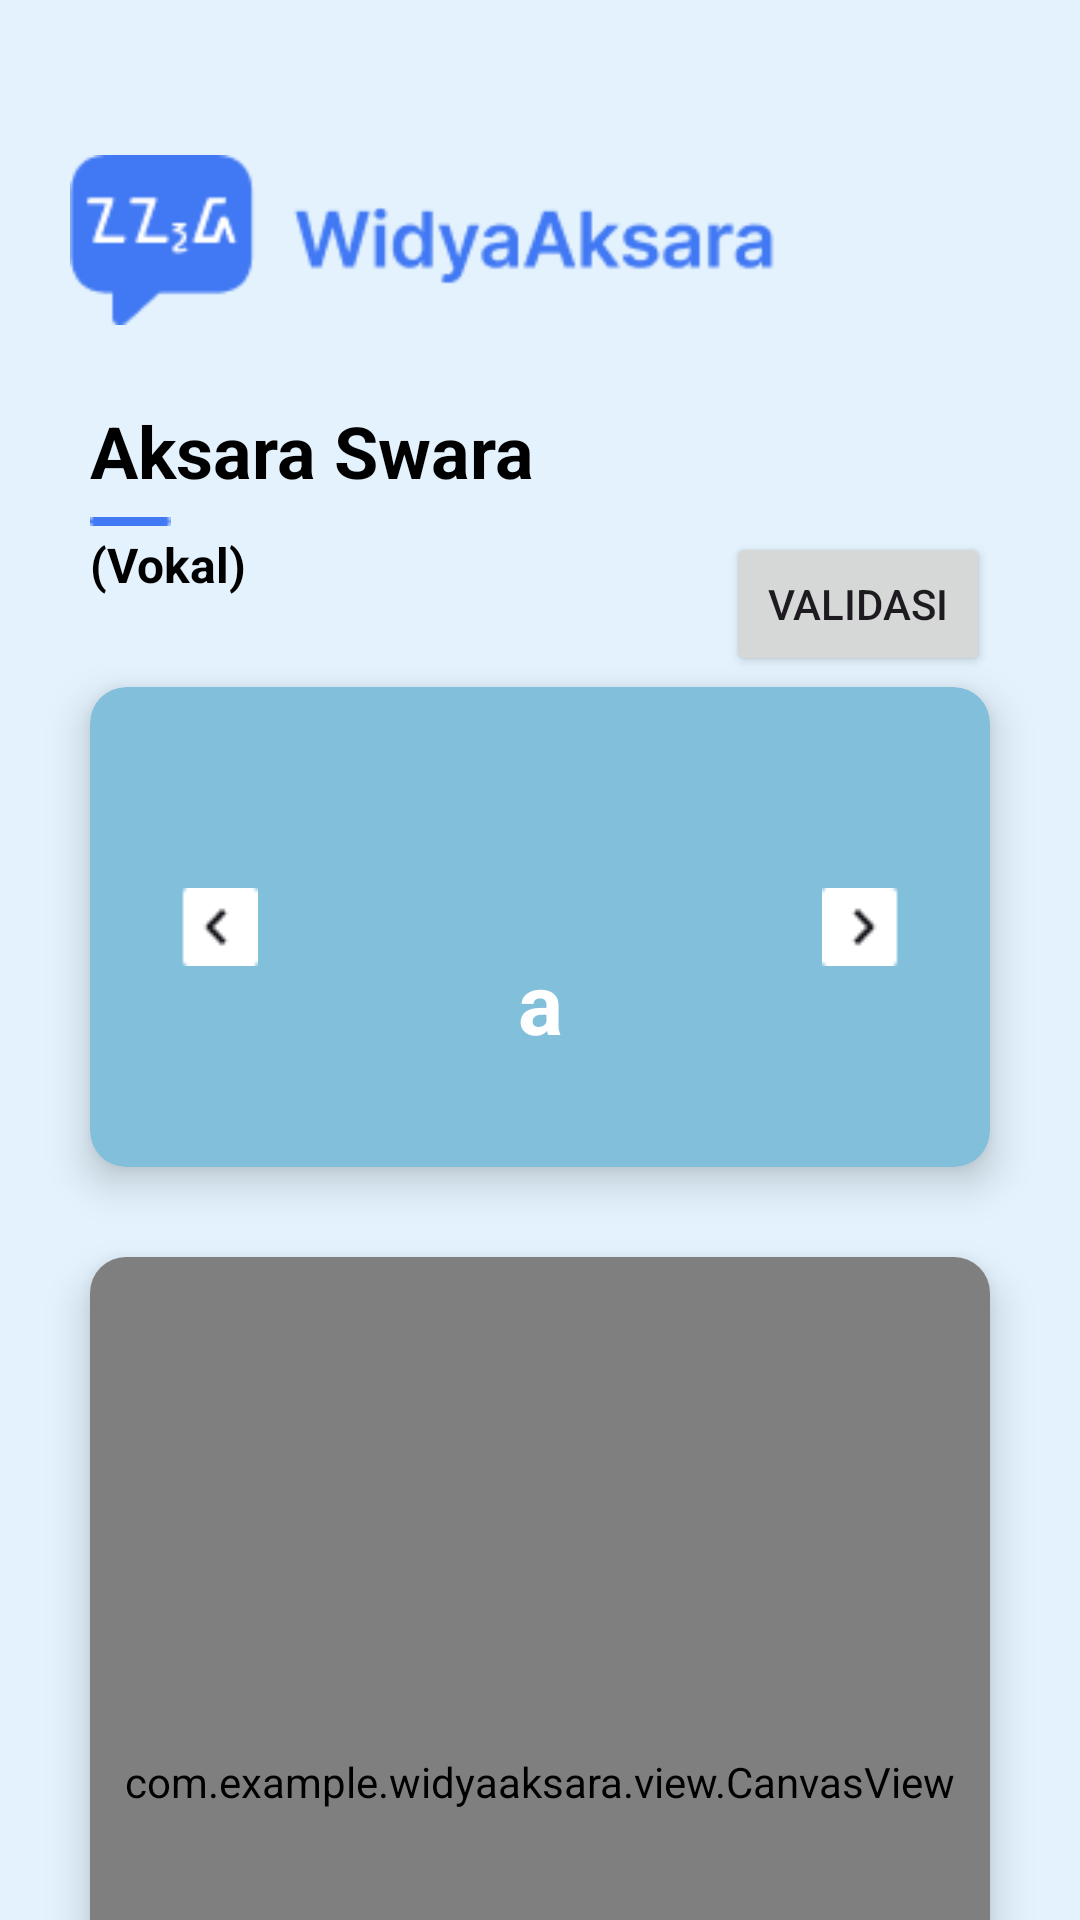

Icons on this 1080*1920 Android screen, each with its box as (x1, y1, x2, y2):
back menulis: (182, 888, 258, 966)
next menulis: (822, 888, 898, 966)
